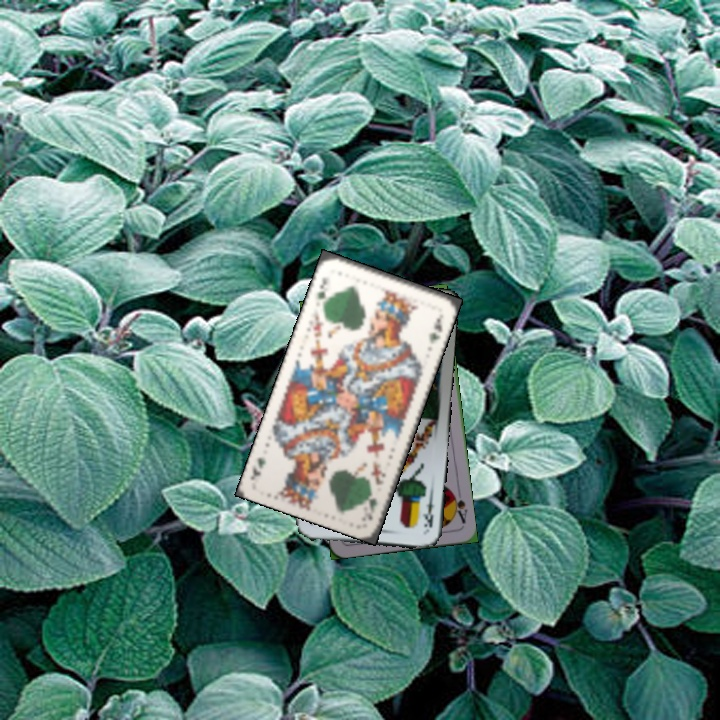EK: (419, 492, 437, 533)
GK: (358, 486, 380, 524), (313, 273, 330, 309)
SA: (448, 488, 470, 526)
